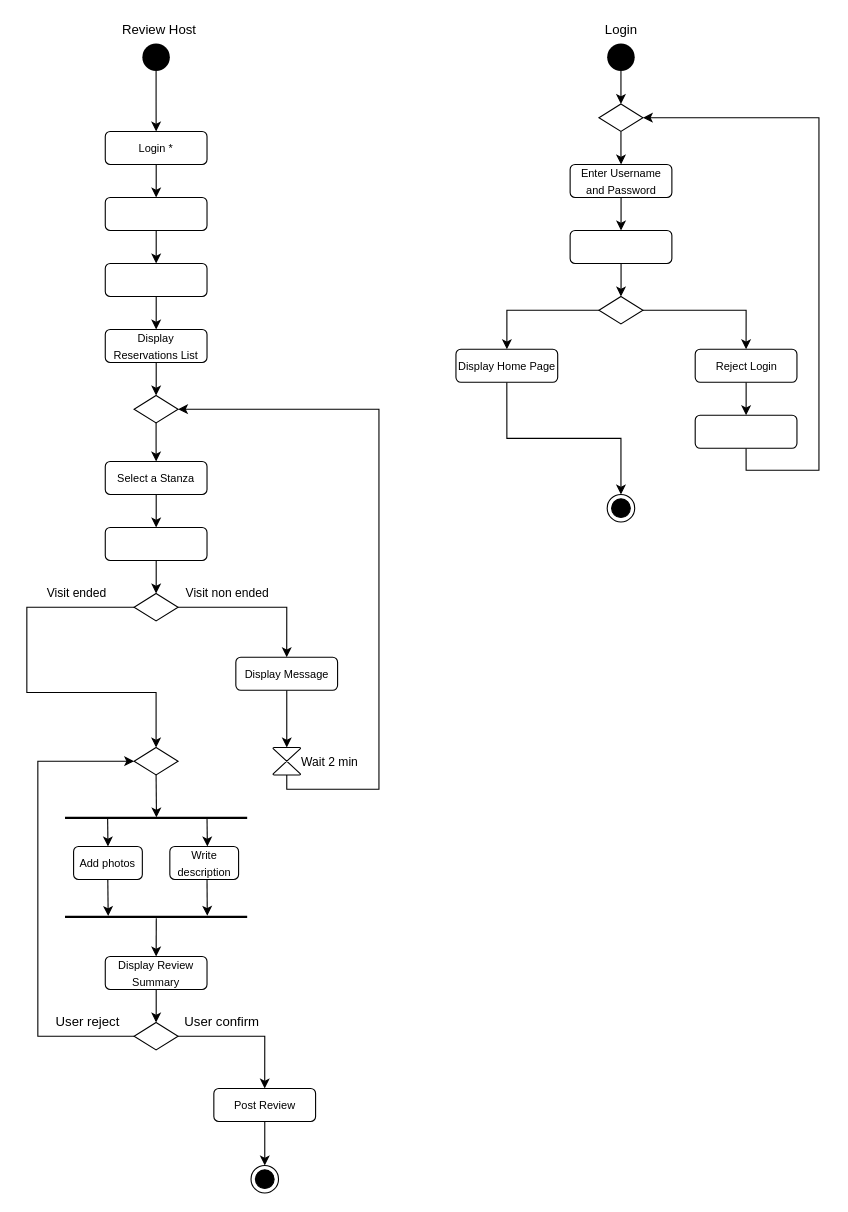
Image size: 848x1212. Some labels were removed from this diagram. The shapes that lost their labels are listed below. From the top down, each one's centre as x and y in pixels, then its label:
(x=155, y=213): Select MyAccount
(x=620, y=246): Verify Username and Password
(x=155, y=279): Select MyReservations
(x=745, y=431): Display Error Message
(x=155, y=543): Click on "Make Review"
